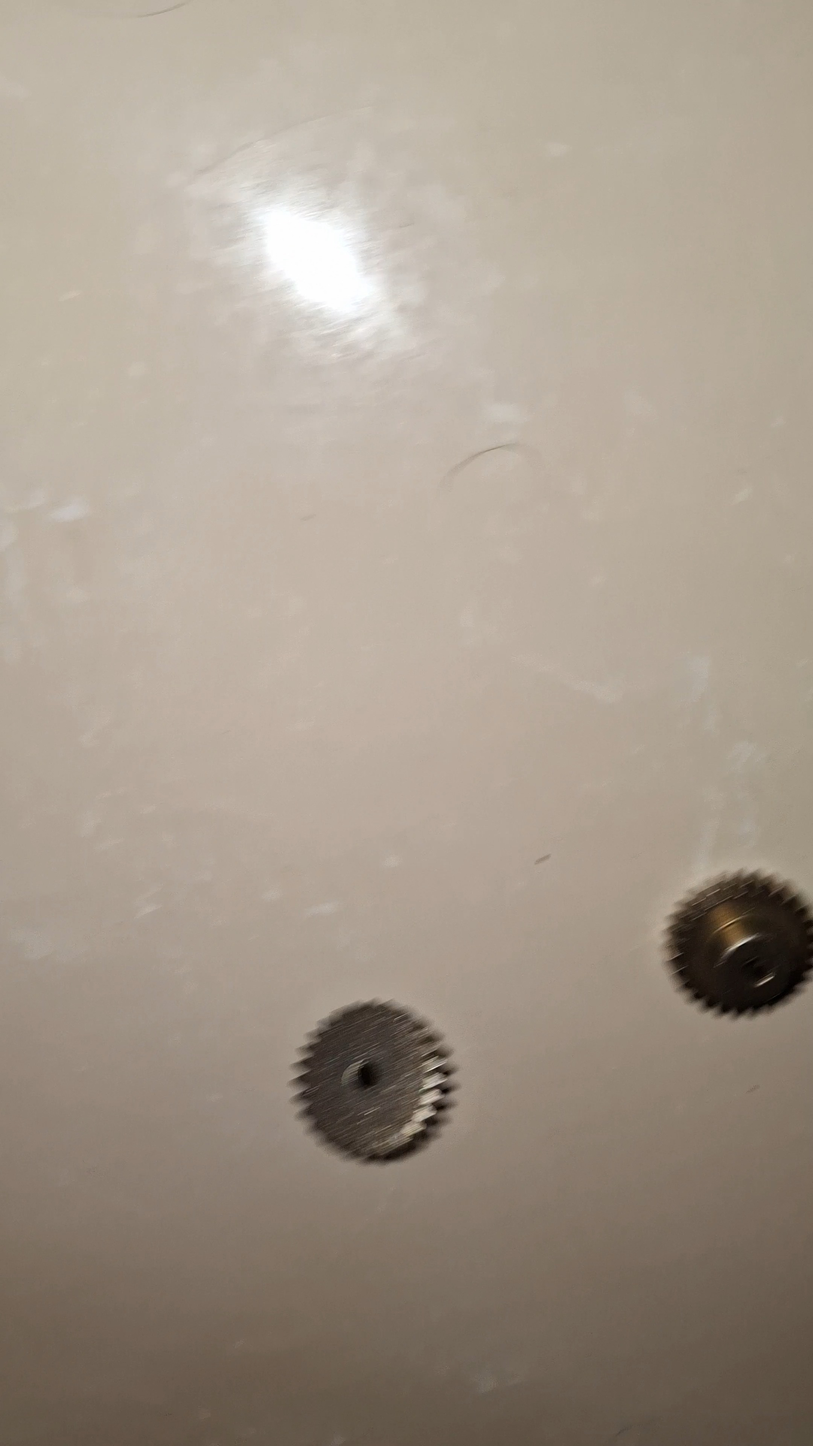spur gear: (295, 1002, 451, 1161), (667, 872, 813, 1013)
